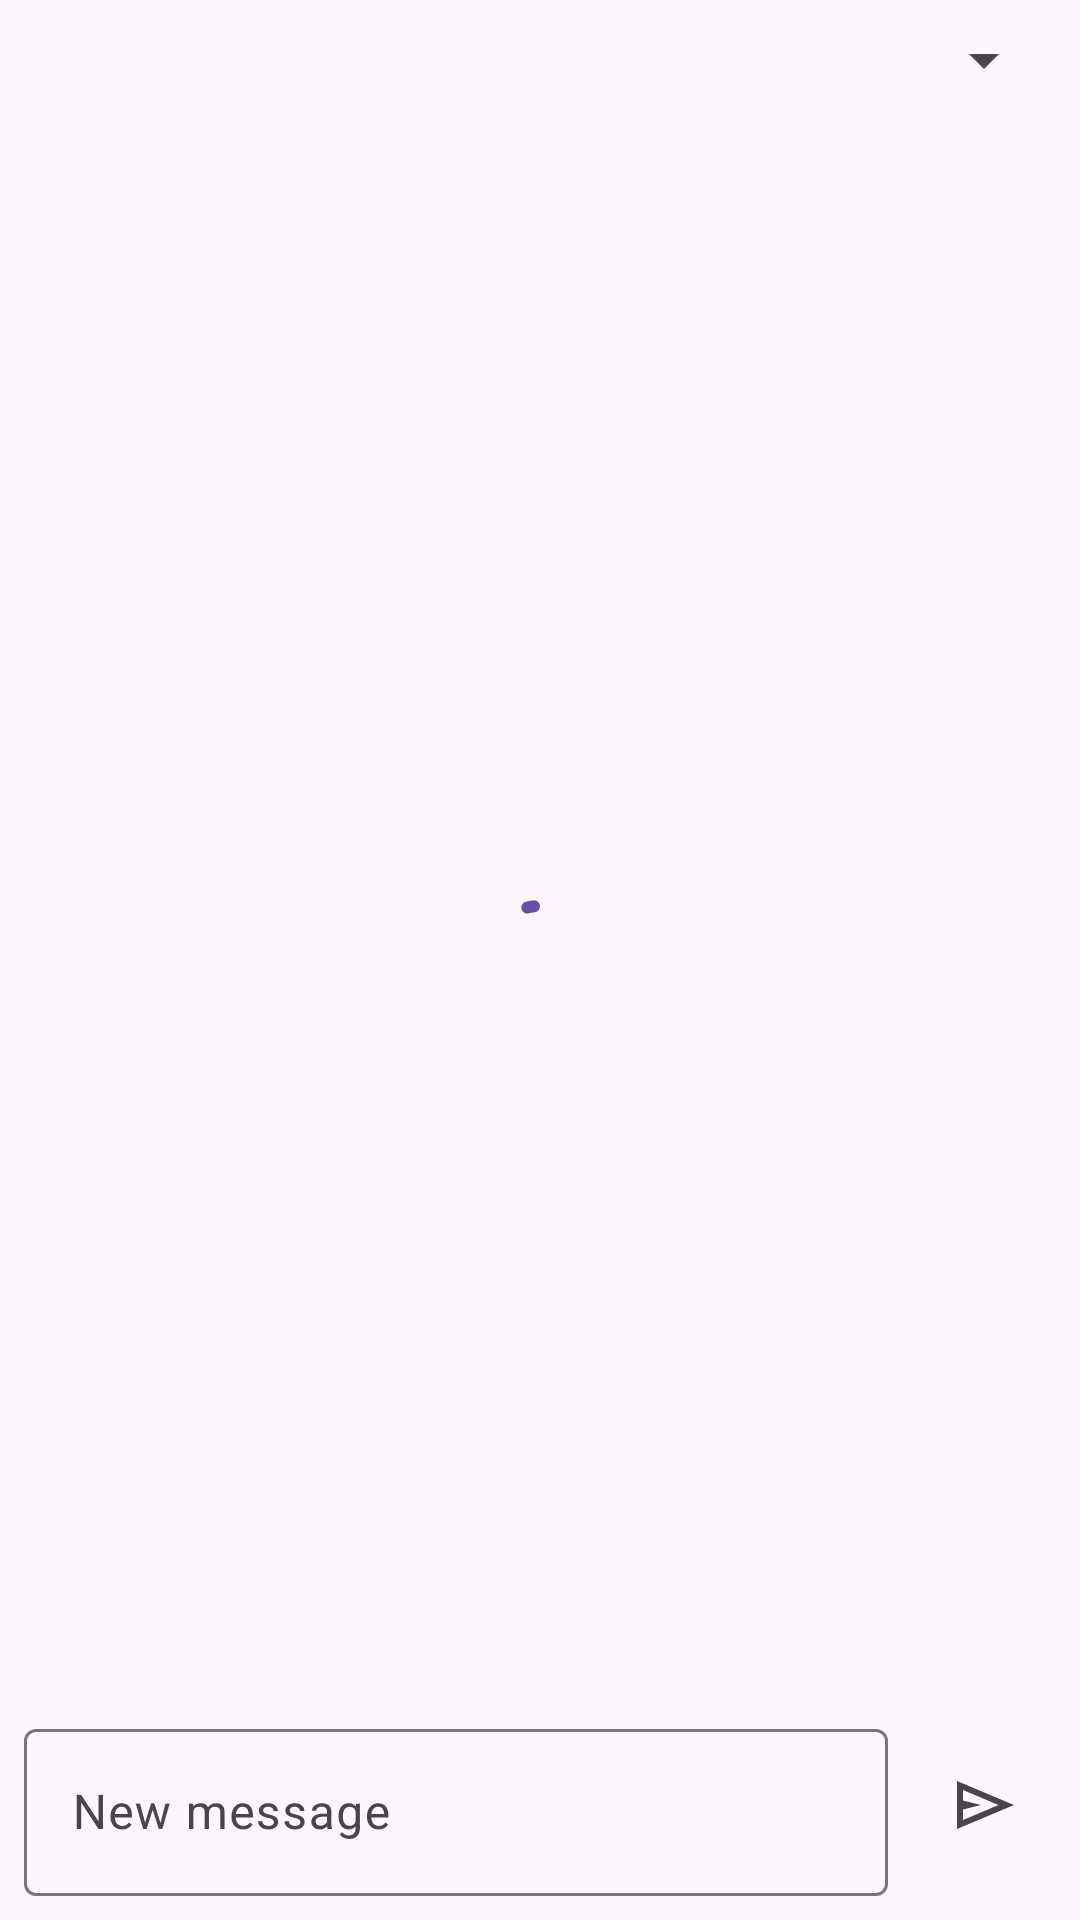

Where to tap for icons on this 1080px×1920px app screen, as [x,y]:
Send message: [985,1805]
